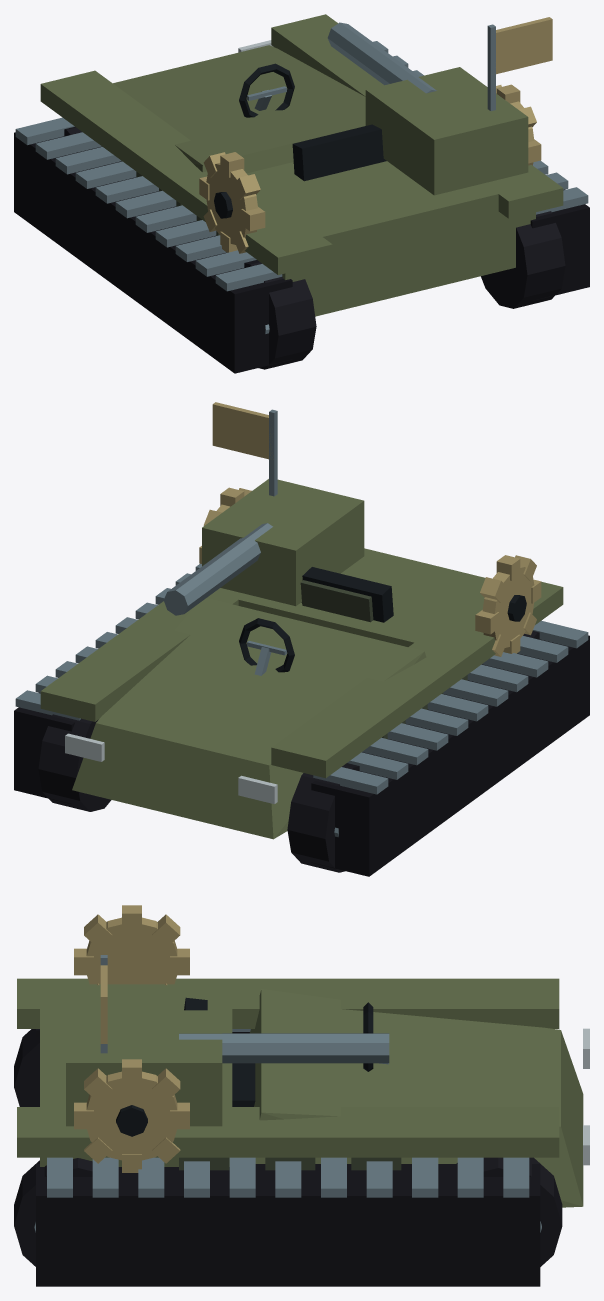
File: kart.glb
3 renders of one model, top to bottom at view 1: azimuth 30°, elevation 25°; view 2: azimuth 150°, elevation 25°; view 3: azimuth 270°, elevation 25°, orthographic. The views are drawn at different scales.
Parts seen in each view (by area): view 1: identity-tank-tank-armored-hull, identity-tank-tank-full-length-tracks, identity-tank-motif-gears, identity-tank-driver-cockpit, wheel-rear-right, wheel-rear-left, identity-tank-motif-flag; view 2: identity-tank-tank-armored-hull, identity-tank-tank-full-length-tracks, identity-tank-motif-gears, identity-tank-driver-cockpit, wheel-front-left, wheel-front-right, identity-tank-motif-flag; view 3: identity-tank-tank-armored-hull, identity-tank-tank-full-length-tracks, identity-tank-motif-gears, wheel-front-right, wheel-rear-right, identity-tank-driver-cockpit, wheel-rear-left, identity-tank-motif-flag.
Boxes of the visible parts, x1,y1,x2,y2 form: identity-tank-tank-armored-hull: (40, 14, 563, 316); identity-tank-tank-full-length-tracks: (14, 41, 589, 373); identity-tank-motif-gears: (199, 84, 541, 253); identity-tank-driver-cockpit: (239, 63, 386, 181); wheel-rear-right: (481, 211, 565, 308); wheel-rear-left: (244, 260, 316, 369); identity-tank-motif-flag: (487, 17, 552, 111); identity-tank-tank-armored-hull: (40, 479, 563, 839); identity-tank-tank-full-length-tracks: (14, 563, 589, 876); identity-tank-motif-gears: (199, 487, 541, 656); identity-tank-driver-cockpit: (239, 567, 393, 675); wheel-front-left: (287, 763, 359, 872); wheel-front-right: (38, 714, 111, 811); identity-tank-motif-flag: (212, 402, 277, 496); identity-tank-tank-armored-hull: (17, 978, 589, 1207); identity-tank-tank-full-length-tracks: (36, 1029, 540, 1286); identity-tank-motif-gears: (74, 905, 189, 1172); wheel-front-right: (456, 1157, 562, 1266); wheel-rear-right: (14, 1158, 92, 1266); identity-tank-driver-cockpit: (184, 997, 388, 1106); wheel-rear-left: (14, 1029, 39, 1106); identity-tank-motif-flag: (100, 955, 107, 1053).
Size of the model in its own units: 2.38 by 1.7 by 2.88.
